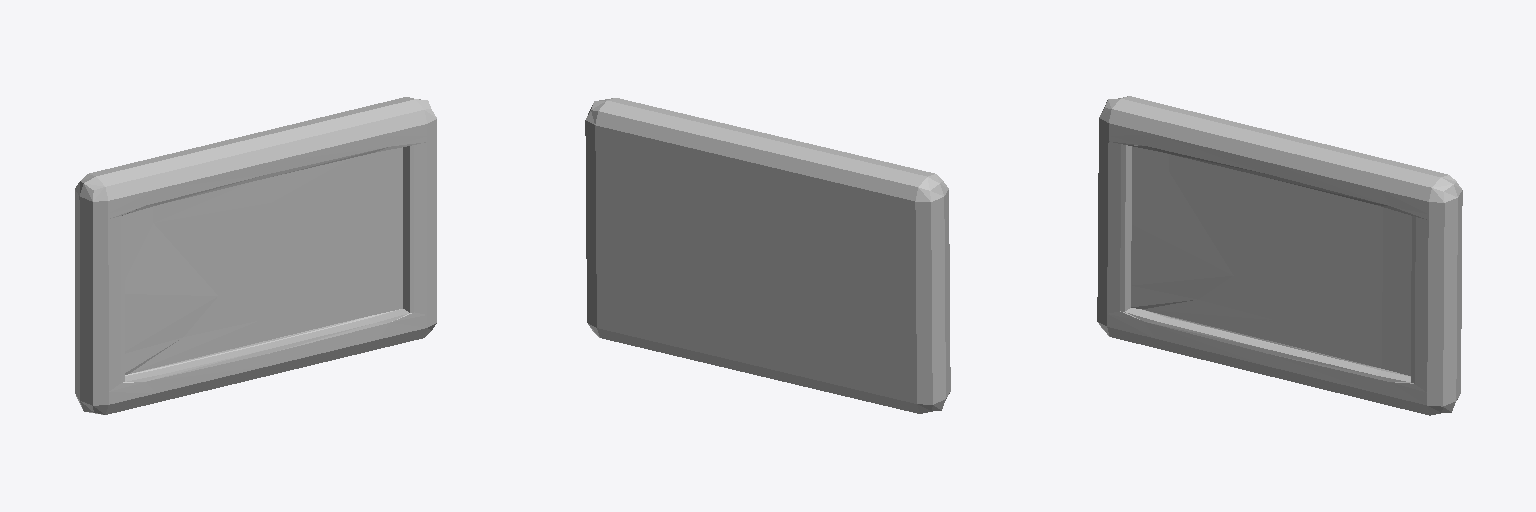
File: painting1.obj
The picture shows the model from 3 angles: view 1: azimuth 30°, elevation 25°; view 2: azimuth 150°, elevation 25°; view 3: azimuth 330°, elevation 25°; orthographic projection.
Parts seen in each view (by area): view 1: pCube78; view 2: pCube78; view 3: pCube78.
Part boxes in pixels (x1,y1,x2,y2): pCube78: (75,97,436,414); pCube78: (585,98,950,413); pCube78: (1097,96,1462,415).
Bounding box in the file's own units: 23.11 × 14.76 × 2.89.